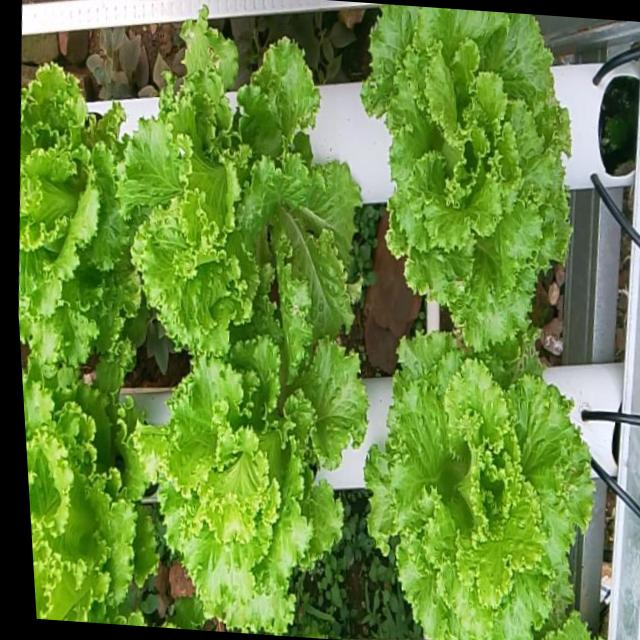Mature: (114, 19, 357, 350), (357, 4, 566, 360), (140, 314, 362, 634), (358, 335, 589, 640), (18, 61, 133, 365), (22, 358, 151, 623)
